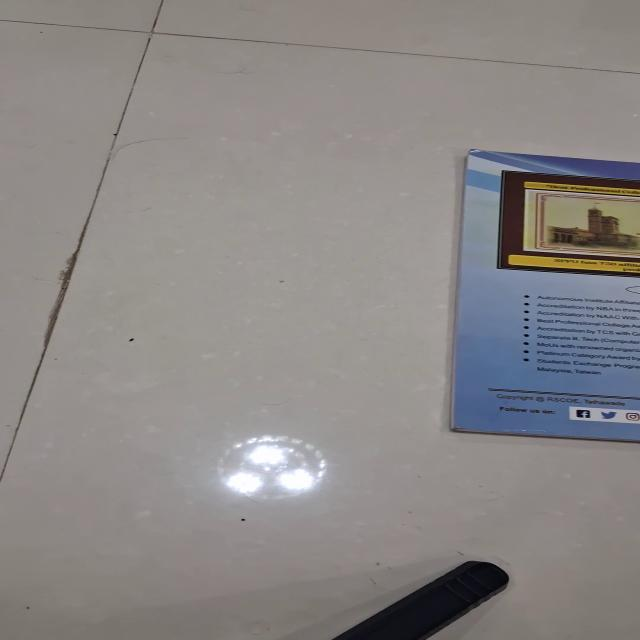paper: (448, 148, 639, 442)
